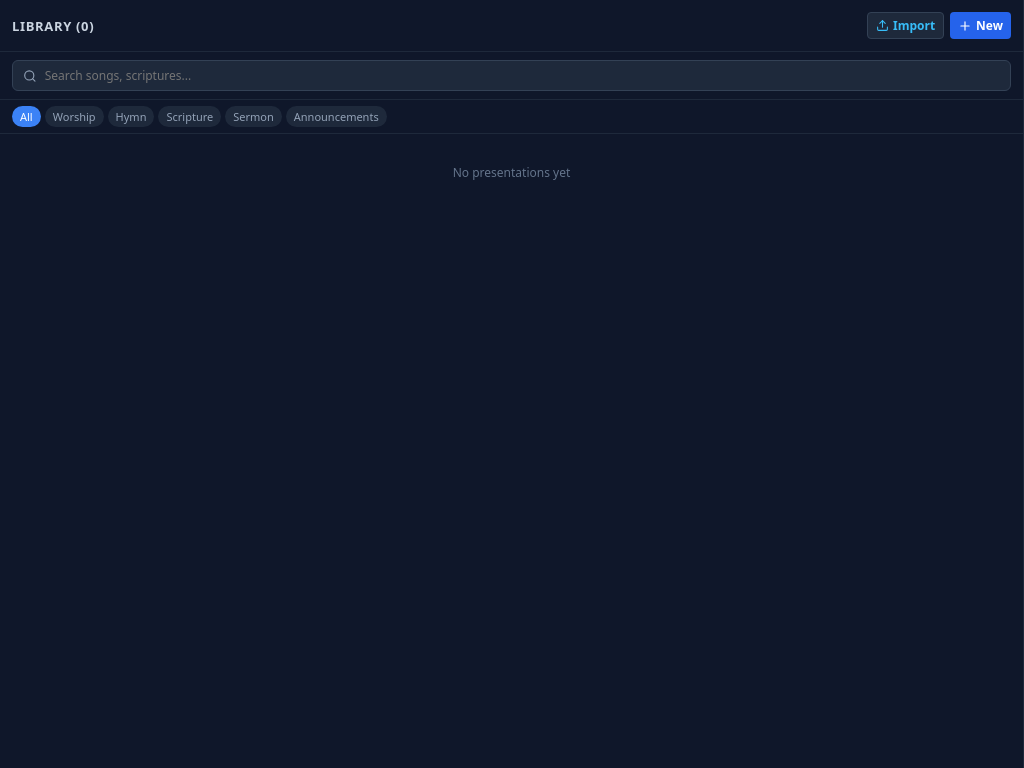
Test: Import button › keeps the notice, with the reason, when the pictures route fails too
Click the button "Import" at {"x": 906, "y": 26}, box [867,12,944,39]
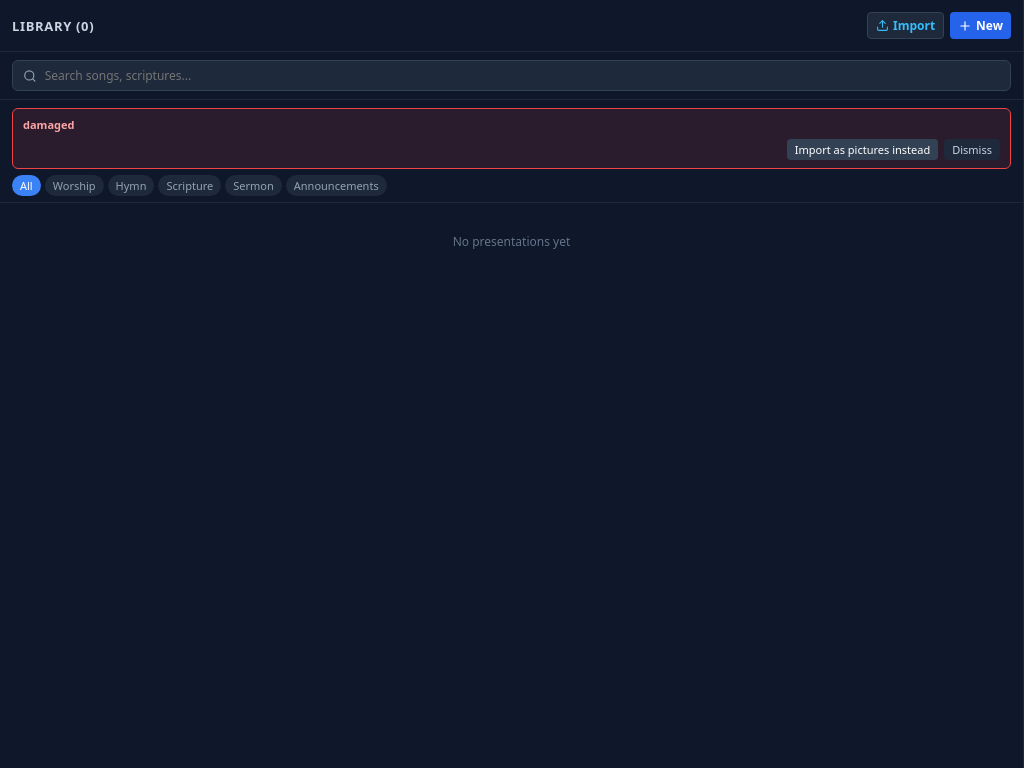
Result: the text "damaged" is shown at [23,117,74,132]
Click the button with test id "import-as-pictures" at {"x": 862, "y": 149}, box [787,139,938,160]
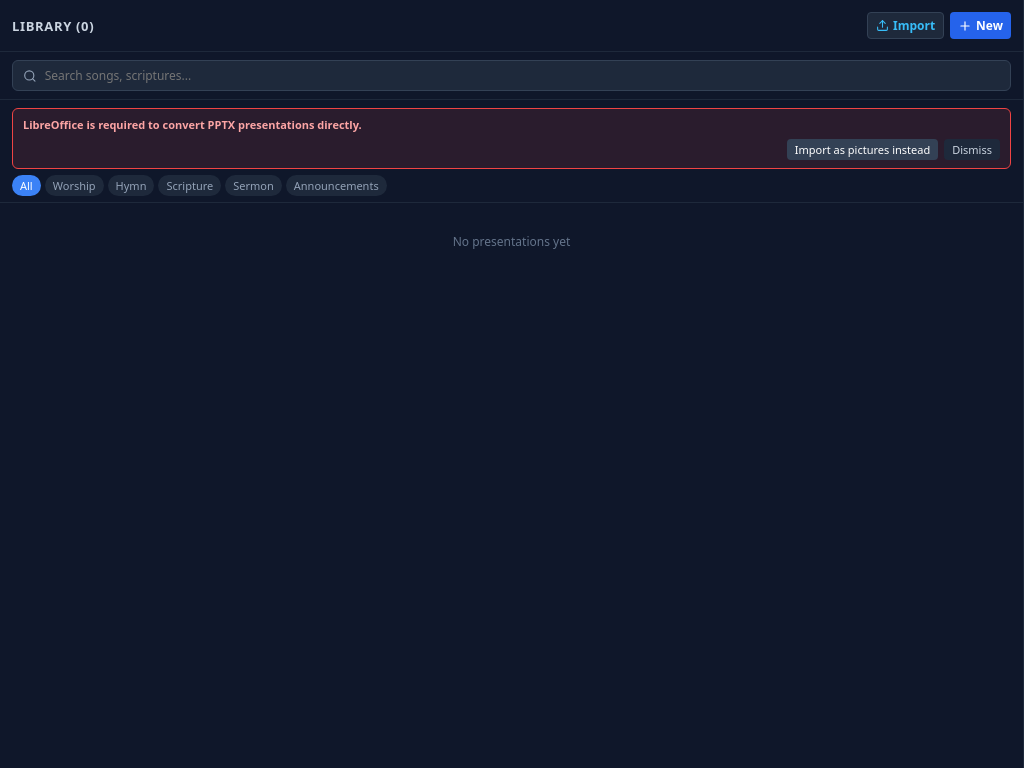
Result: the text with test id "import-error" shows "LibreOffice is required" at [23,117,362,132]
